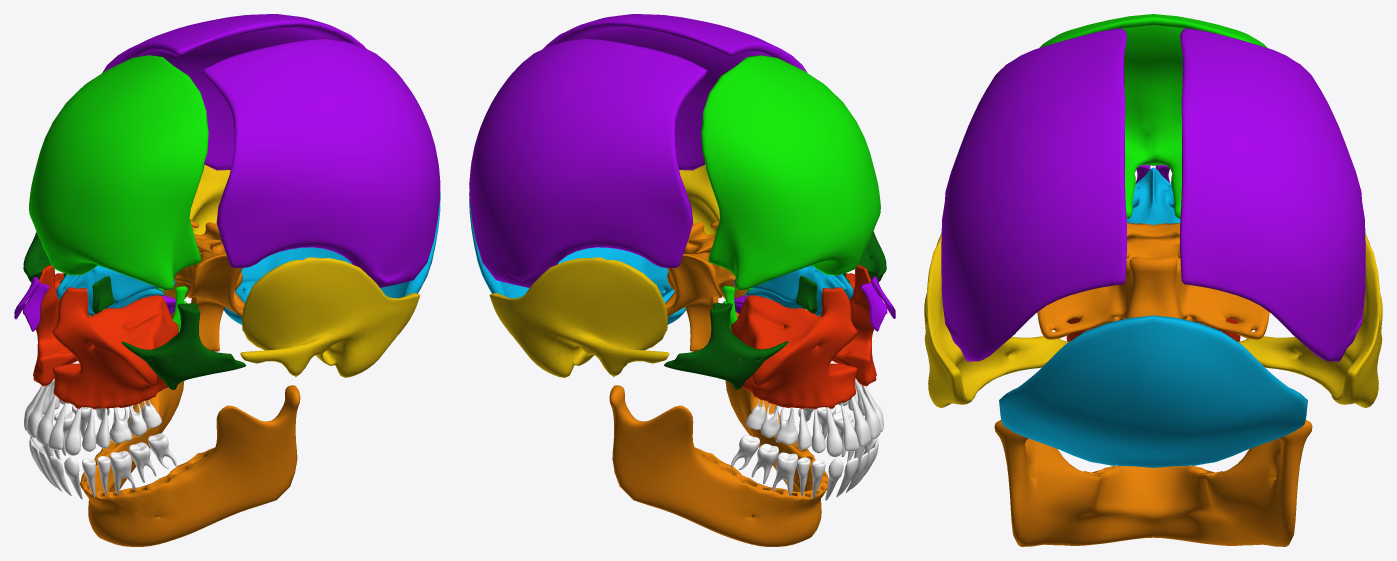
File: skull_v01.glb
3 views of the same model, side by side, from view 1: azimuth 30°, elevation 25°; view 2: azimuth 150°, elevation 25°; view 3: azimuth 270°, elevation 25° (orthographic). The views are drawn at different scales.
Parts seen in each view (by area): view 1: parietal, frontal, mandible, temporal, maxila, down_tooth, up_tooth, zygomatic, sphenoid, occipital, perpendicular, nasal (+1 smaller); view 2: parietal, frontal, mandible, temporal, maxila, down_tooth, up_tooth, zygomatic, sphenoid, occipital, perpendicular, nasal (+1 smaller); view 3: parietal, occipital, mandible, temporal, sphenoid, frontal, perpendicular.
Boxes of the visible parts, box(x1,y1,x2,y2) form: parietal: box(102, 14, 440, 287); frontal: box(29, 55, 208, 290); mandible: box(80, 312, 300, 546); temporal: box(189, 164, 419, 377); maxila: box(33, 264, 178, 409); down_tooth: box(29, 405, 176, 499); up_tooth: box(24, 379, 161, 455); zygomatic: box(23, 232, 246, 389); sphenoid: box(162, 219, 244, 351); occipital: box(224, 193, 440, 324); perpendicular: box(56, 265, 175, 316); nasal: box(14, 277, 49, 331); parietal: box(469, 14, 807, 287); frontal: box(701, 55, 880, 290); mandible: box(609, 312, 828, 546); temporal: box(489, 165, 719, 377); maxila: box(731, 264, 876, 409); down_tooth: box(731, 407, 878, 500); up_tooth: box(746, 379, 883, 456); zygomatic: box(664, 231, 886, 389); sphenoid: box(665, 220, 747, 351); occipital: box(469, 191, 685, 324); perpendicular: box(734, 265, 853, 316); nasal: box(860, 276, 895, 331); parietal: box(941, 28, 1365, 361); occipital: box(999, 315, 1307, 467); mandible: box(994, 420, 1312, 546); temporal: box(924, 233, 1382, 407); sphenoid: box(1037, 223, 1269, 339); frontal: box(1039, 14, 1267, 218); perpendicular: box(1126, 167, 1180, 224).
Bounding box in the file's own units: 0.4449 × 0.4909 × 0.3583.
